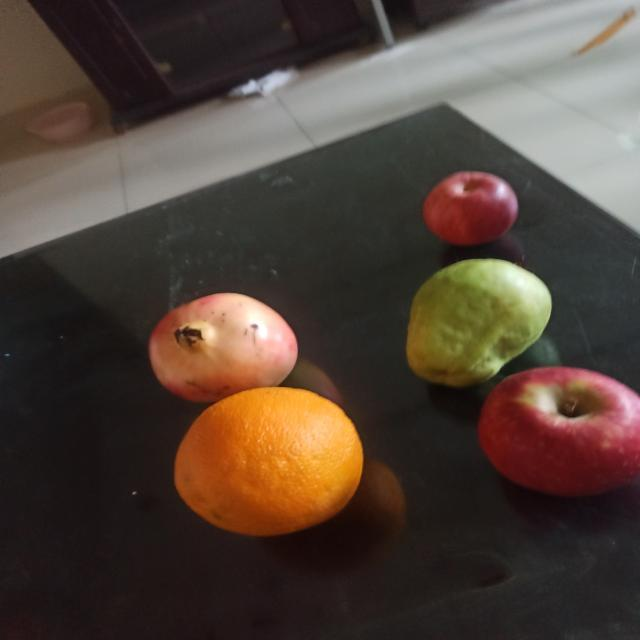apple: (478, 366, 640, 498), (422, 169, 518, 246)
